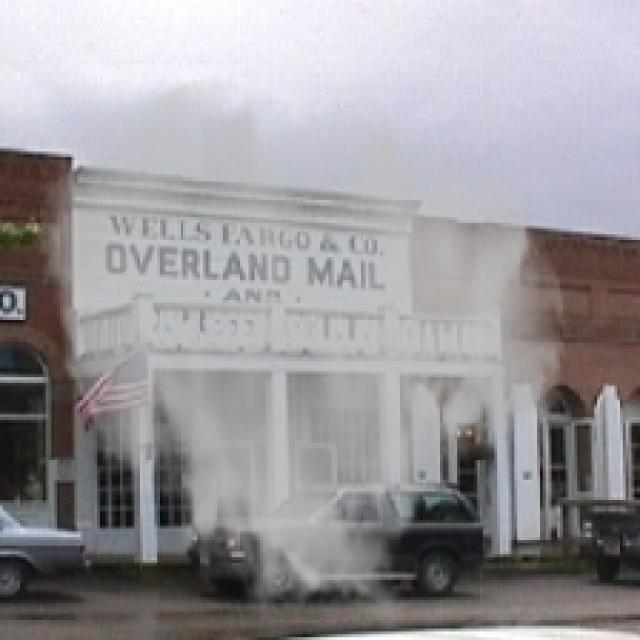smoke: (34, 74, 572, 632)
